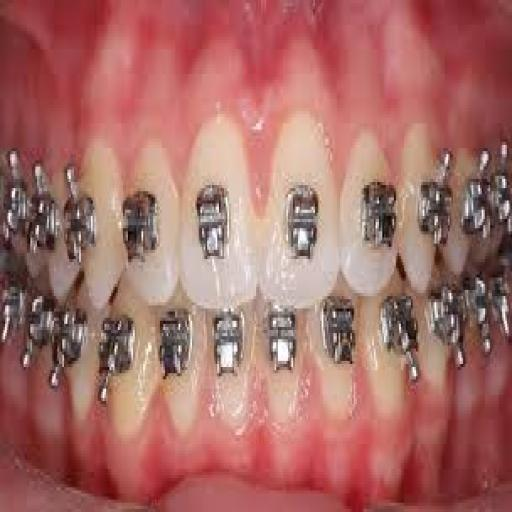correct_brace: (352, 169, 402, 270), (191, 173, 237, 276), (278, 170, 319, 268), (419, 152, 453, 260), (64, 162, 97, 267), (120, 182, 162, 260)
incorrect_brace: (339, 127, 401, 301), (120, 134, 182, 308)
